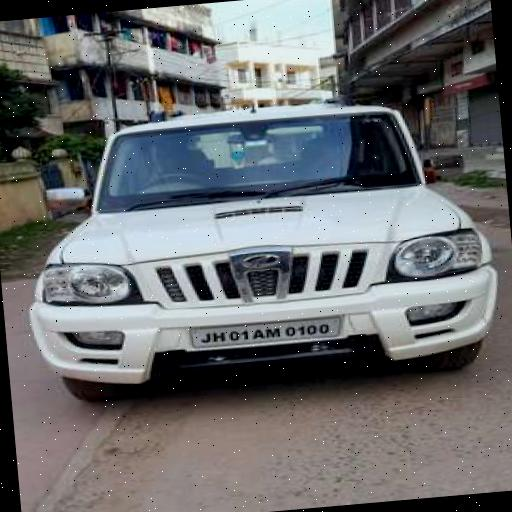license_plate`: (187, 312, 344, 346)
